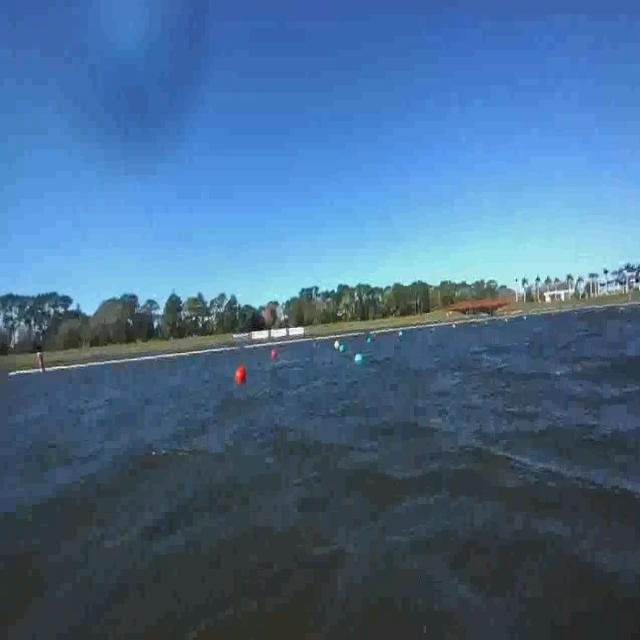green-buoy: (355, 352, 365, 366), (341, 344, 348, 354)
red-buoy: (236, 365, 247, 384), (273, 350, 278, 360)
yellow-buoy: (7, 612, 17, 626)
